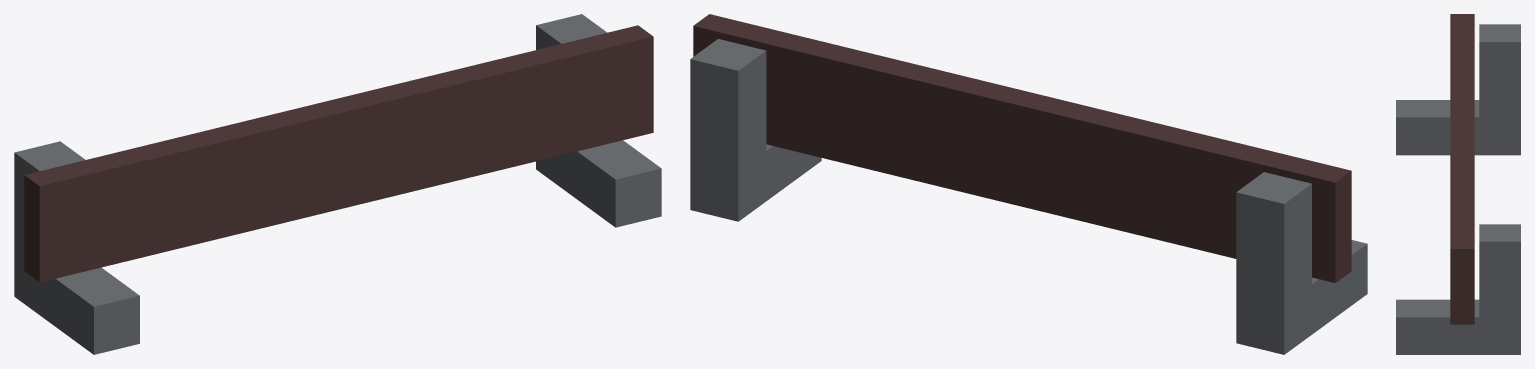
Rendered from DarkRoseWoodDoorSmallBarricade1.fbx.
3 views of the same model, side by side, from view 1: azimuth 30°, elevation 25°; view 2: azimuth 150°, elevation 25°; view 3: azimuth 270°, elevation 25° (orthographic). The views are drawn at different scales.
Parts seen in each view (by area): view 1: Bar, RightSupport, LeftSupport; view 2: Bar, RightSupport, LeftSupport; view 3: LeftSupport, RightSupport, Bar.
Part boxes in pixels (x1,y1,x2,y2): Bar: [24, 25, 653, 282]; RightSupport: [14, 141, 139, 354]; LeftSupport: [536, 14, 661, 227]; Bar: [693, 14, 1351, 282]; RightSupport: [1236, 172, 1367, 354]; LeftSupport: [690, 39, 821, 221]; LeftSupport: [1396, 224, 1520, 354]; RightSupport: [1396, 24, 1520, 155]; Bar: [1450, 14, 1474, 324].
Size of the model in its own units: 334 by 76.95 by 75.
